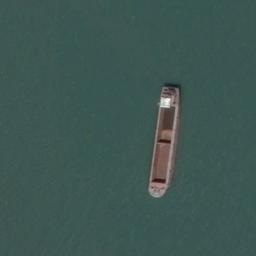boat: (147, 84, 182, 198)
